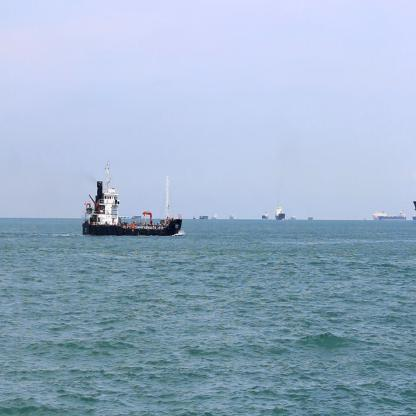Container Ship: (78, 158, 182, 241), (373, 207, 407, 222), (274, 201, 287, 222), (260, 208, 270, 222), (199, 212, 209, 222), (228, 212, 237, 223), (289, 215, 298, 223), (210, 213, 217, 222), (192, 212, 198, 222), (306, 215, 314, 222)
